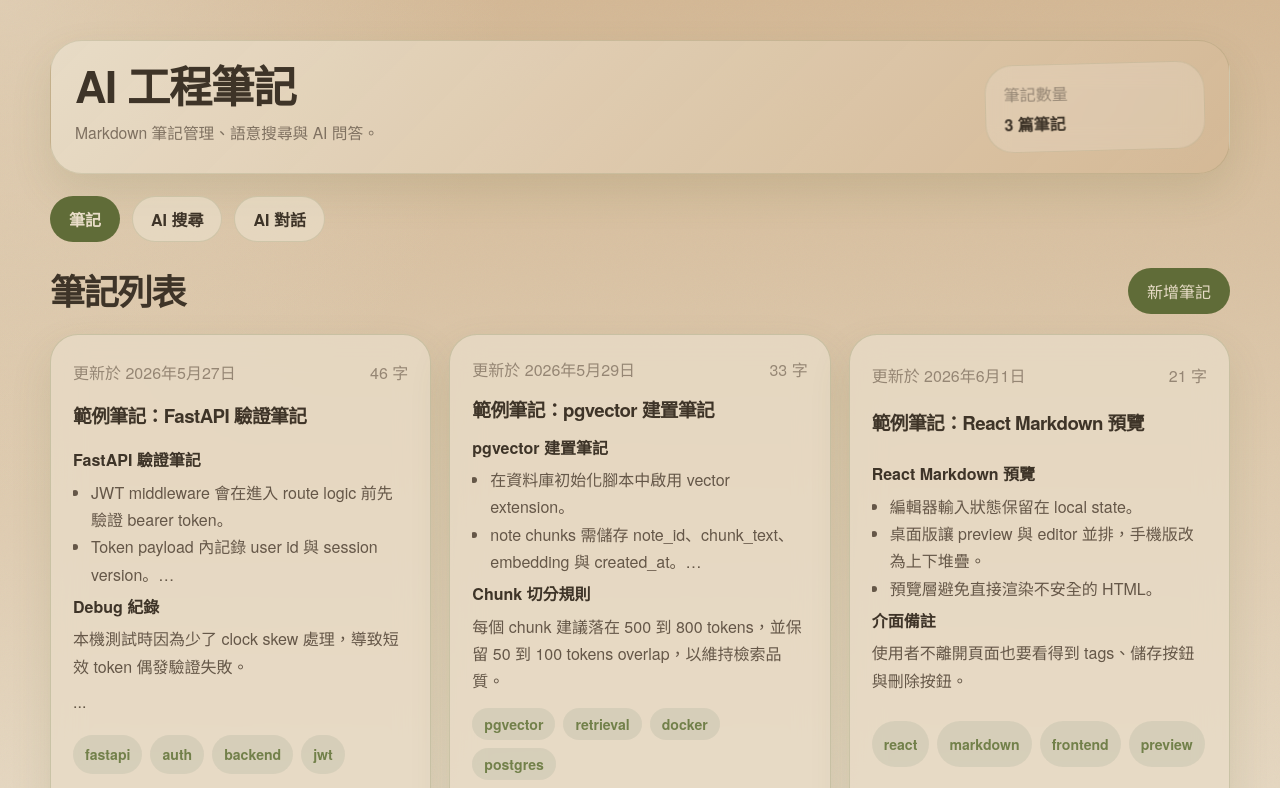
it: client app › navigates between tabs without losing the active tab label
Click the link "AI 搜尋": (177, 219) [132,196,222,242]
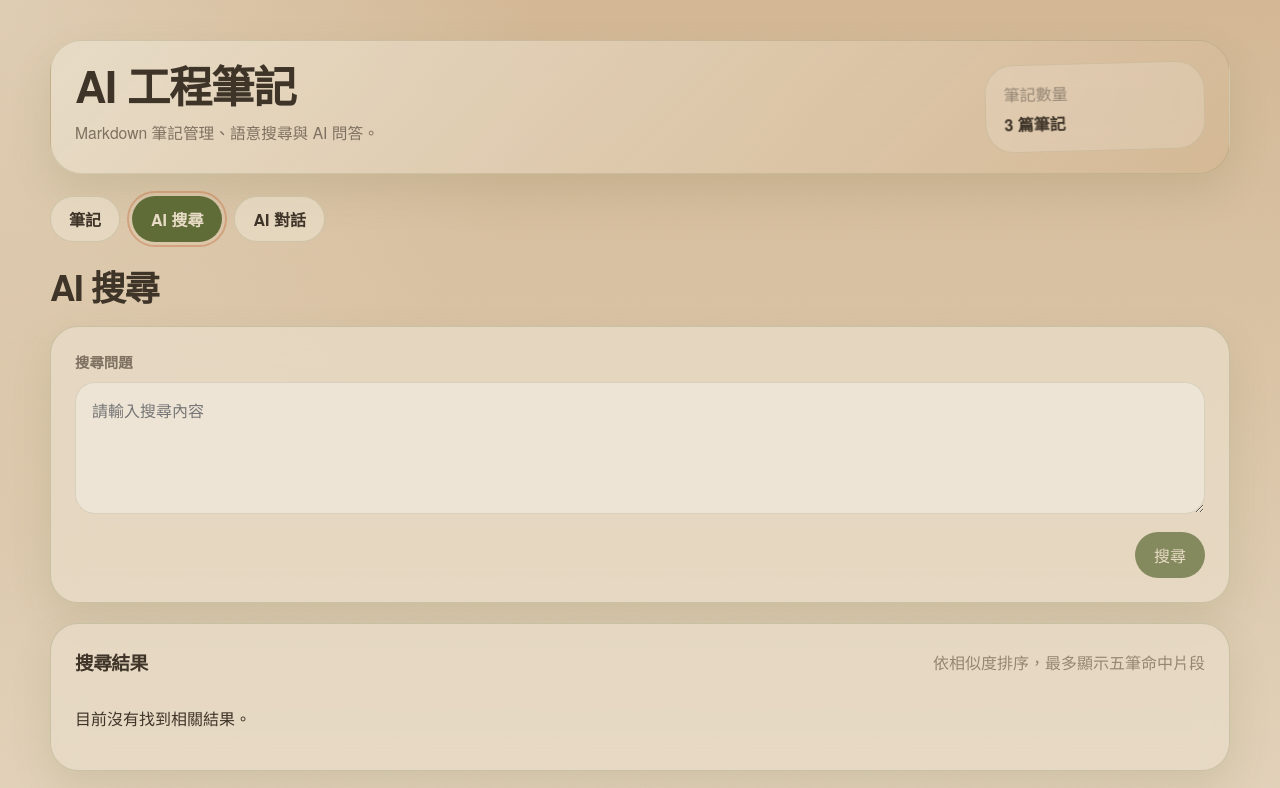
Now the heading "AI 搜尋" is shown, box [50,268,158,306]
Click the link "AI 對話": (280, 219) [234,196,325,242]
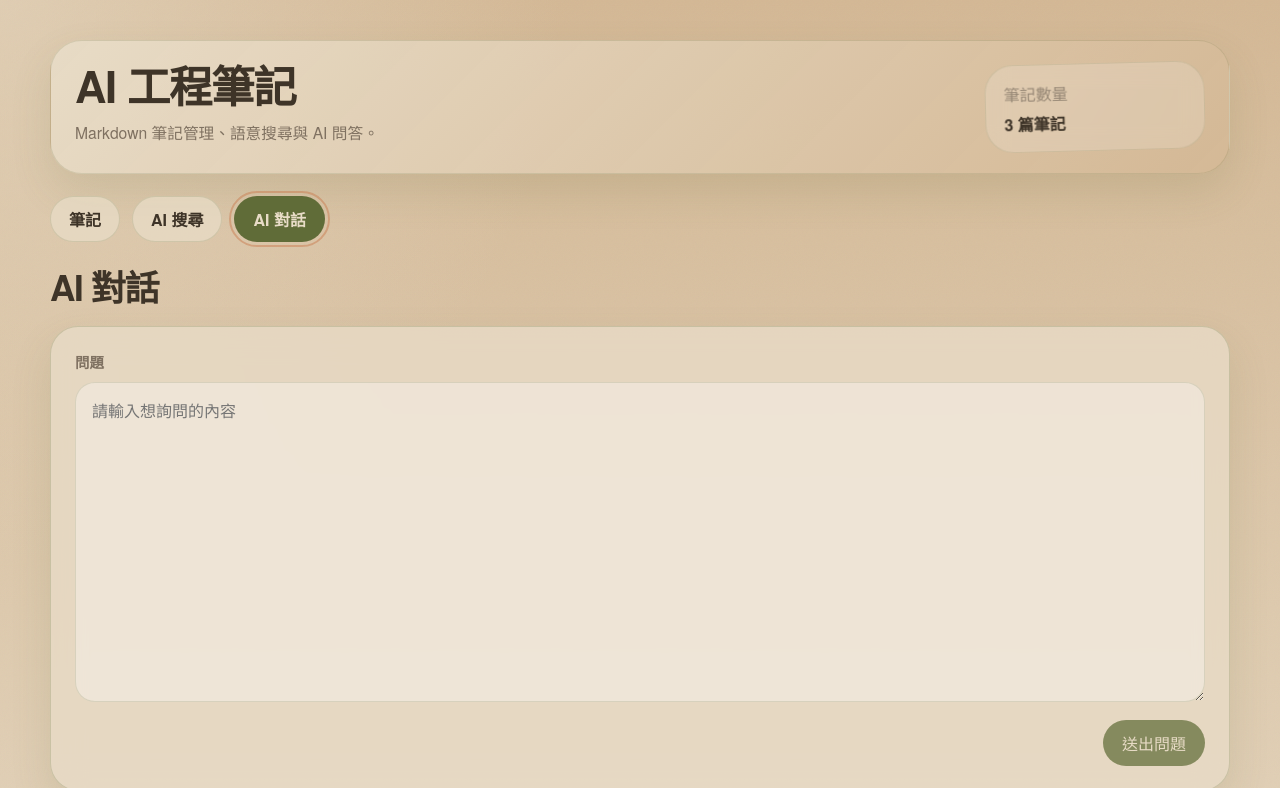
Now the heading "AI 對話" is shown, box [50,268,158,306]
